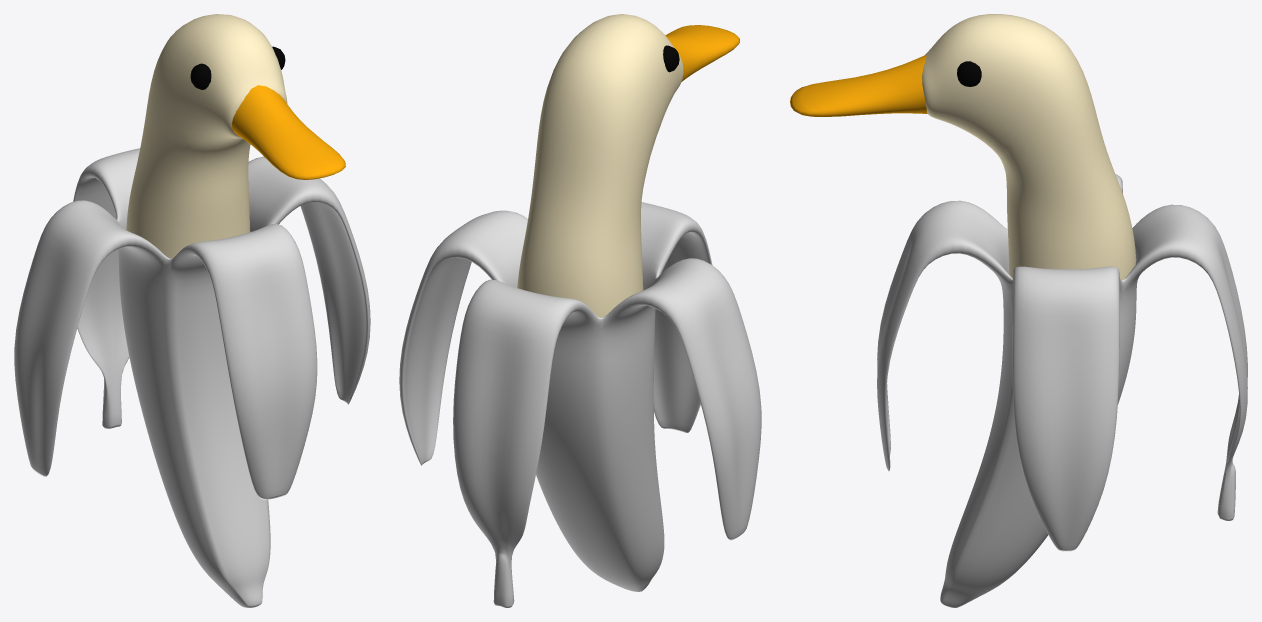
The model's file is sceneb.gltf.
3 renders of one model, left to right at view 1: azimuth 30°, elevation 25°; view 2: azimuth 150°, elevation 25°; view 3: azimuth 270°, elevation 25°, orthographic. The views are drawn at different scales.
Parts seen in each view (by area): view 1: banana peel; view 2: banana peel; view 3: banana peel.
Part boxes in pixels (x1=…): banana peel: x1=14, y1=14, x2=370, y2=607; banana peel: x1=399, y1=14, x2=761, y2=607; banana peel: x1=790, y1=14, x2=1247, y2=607.
Bounding box in the file's own units: 2.52 × 4.25 × 3.01.
